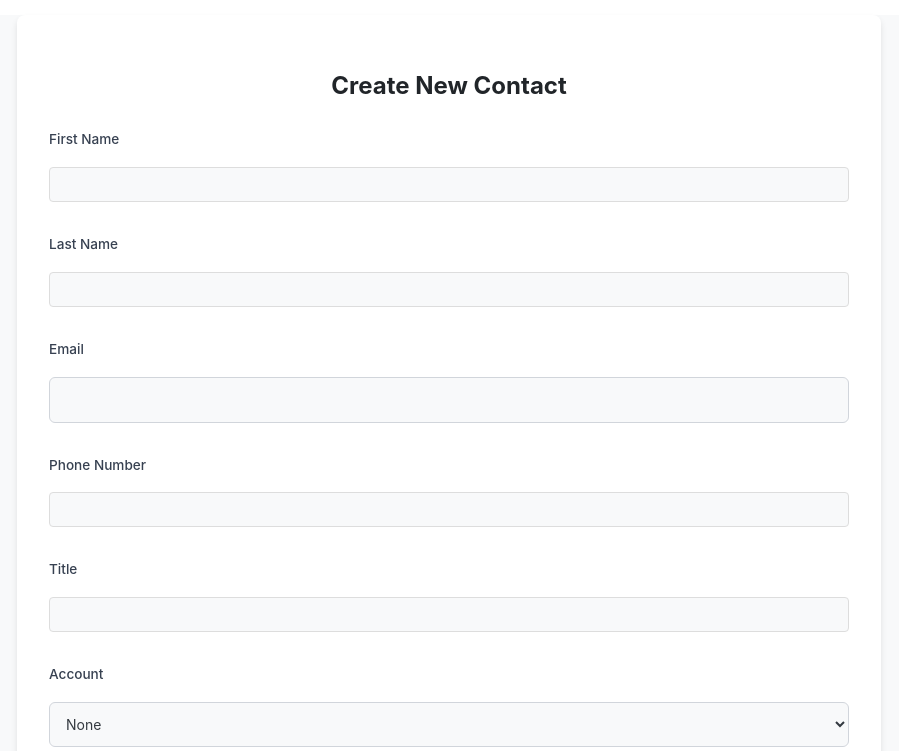
Test: ContactForm Component - REQ-101.1 › Form Submission - Create Mode › disables submit button during submission
Note: Fill required fields
Type "Jane" into the field labelled "First Name" at [449, 184], box [49,167,849,202]
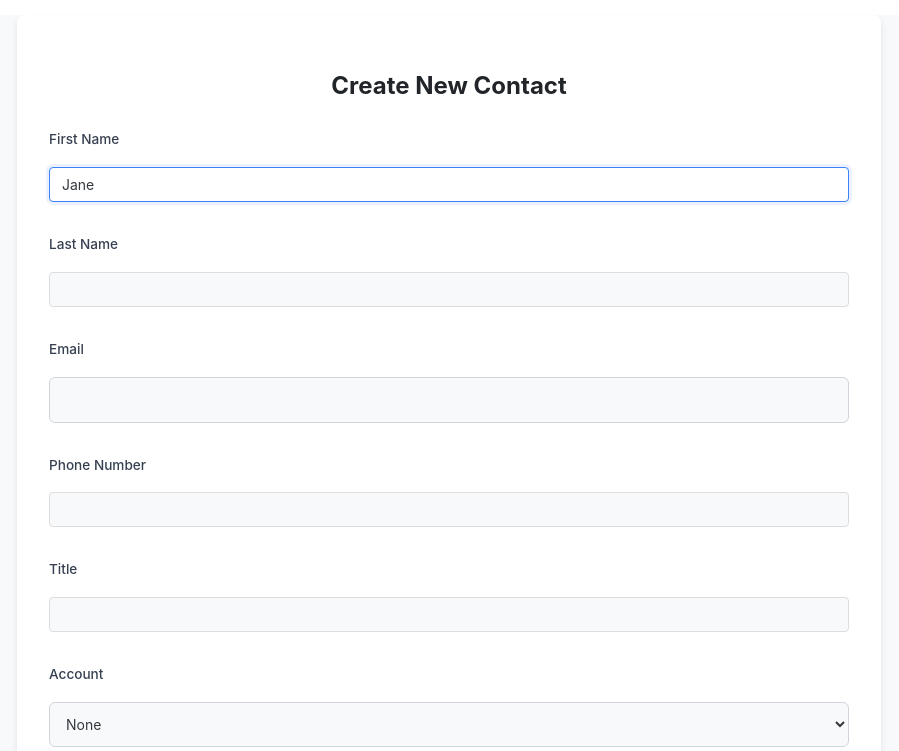
Type "Smith" into the field labelled "Last Name" at [449, 289], box [49,272,849,307]
(page scrolled)
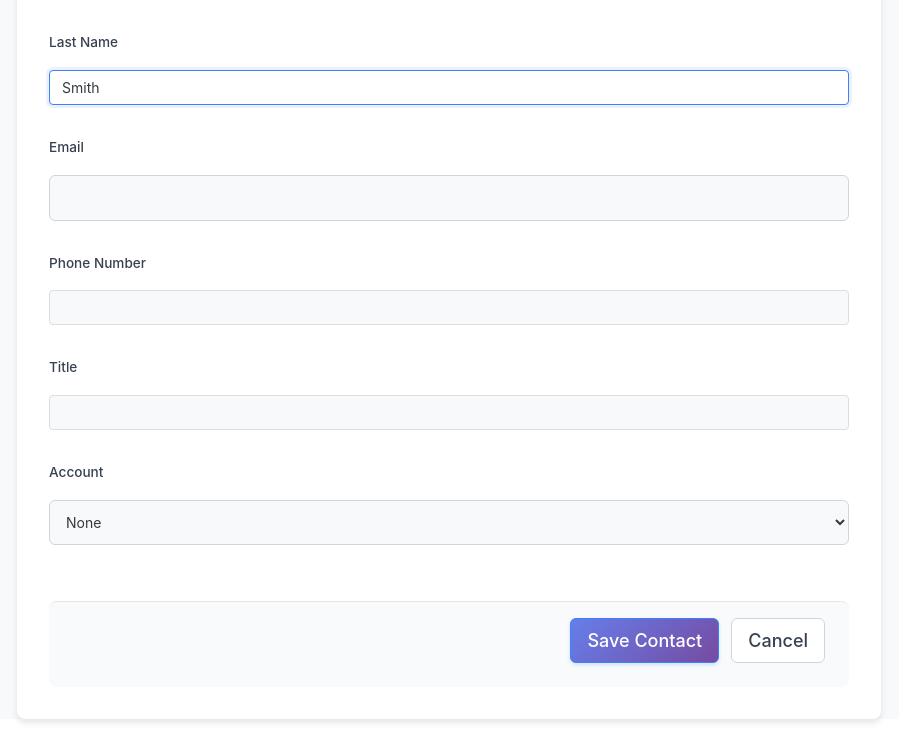
Click the button "Save Contact" at [645, 640], box [570,618,719,663]
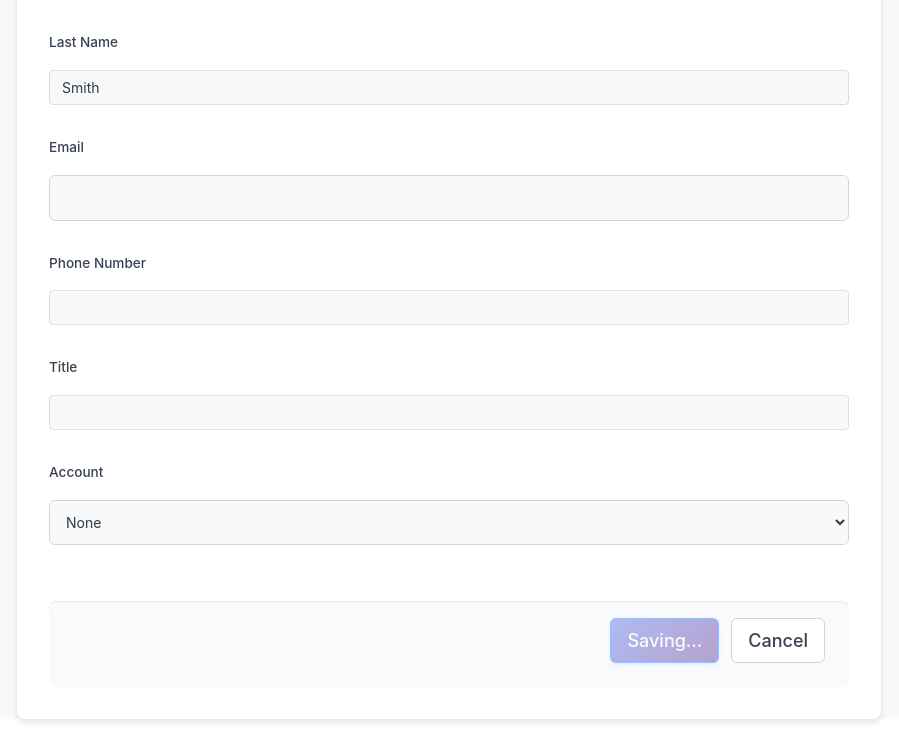
Check: the button "Saving..." is disabled, box [610,618,719,663]
